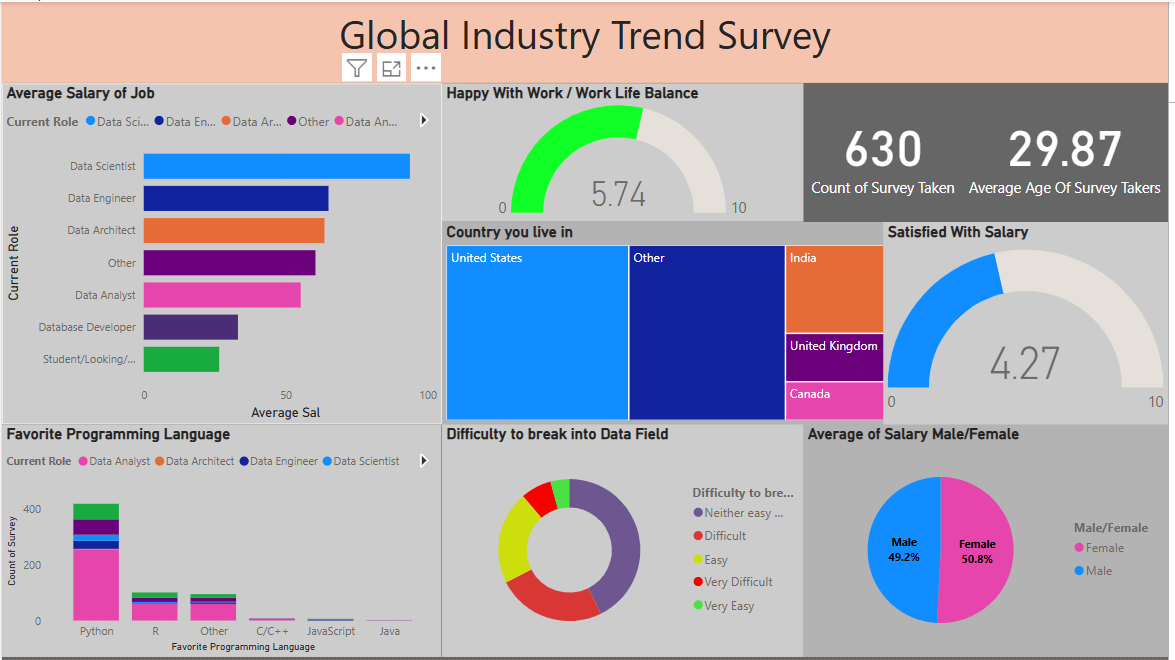

Layout of this report page (visuals, bound fields, positions):
{"tool":"powerbi","page":{"name":"Page 1","canvas":[1280,720],"ordinal":0},"visuals":[{"type":"textbox","box":[0,0,1280.3,89.2],"z":0},{"type":"card","fields":{"Values":["CountNonNull(Data Professional Survey.Unique ID)"]},"box":[879.2,89.7,175.3,151.4],"z":1000},{"type":"card","fields":{"Values":["Avg(Data Professional Survey.Q10 - Current Age)"]},"box":[1054.5,89.7,225.8,151.4],"z":2000},{"type":"barChart","title":"Average Salary of Job","fields":{"Category":["Data Professional Survey.Q1 - Which Title Best Fits your Current Role?.1"],"Y":["Avg(Data Professional Survey.Avg Sal)"],"Series":["Data Professional Survey.Q1 - Which Title Best Fits your Current Role?.1"]},"box":[0,89.7,482.4,374.4],"z":3000},{"type":"columnChart","title":"Favorite Programming Language","fields":{"Category":["Data Professional Survey.Q5 - Favorite Programming Language.1"],"Y":["CountNonNull(Data Professional Survey.Unique ID)"],"Series":["Data Professional Survey.Q1 - Which Title Best Fits your Current Role?.1"]},"box":[0,464.2,482.4,255.2],"z":4000},{"type":"treemap","title":"Country you live in","fields":{"Group":["Data Professional Survey.Q11 - Which Country do you live in?.1"],"Values":["CountNonNull(Data Professional Survey.Q11 - Which Country do you live in?.1)"]},"box":[482.4,241.2,493.6,223],"z":5000},{"type":"gauge","title":"     Happy With Work / Work Life Balance","fields":{"Y":["Avg(Data Professional Survey.Q6 - How Happy are you in your Current Position with the following? (Work/Life Balance))"],"MaxValue":["Max(Data Professional Survey.Q6 - How Happy are you in your Current Position with the following? (Work/Life Balance))"],"MinValue":["Min(Data Professional Survey.Q6 - How Happy are you in your Current Position with the following? (Work/Life Balance))1"]},"box":[574.9,89.7,304.3,151.4],"z":6000},{"type":"gauge","title":"Satisfied With Salary","fields":{"Y":["Avg(Data Professional Survey.Q6 - How Happy are you in your Current Position with the following? (Salary))"],"MinValue":["Min(Data Professional Survey.Q6 - How Happy are you in your Current Position with the following? (Salary))"],"MaxValue":["Max(Data Professional Survey.Q6 - How Happy are you in your Current Position with the following? (Salary))"]},"box":[967.6,241.2,312.7,223],"z":7000},{"type":"pieChart","title":"Average of Salary Male/Female","fields":{"Category":["Data Professional Survey.Q9 - Male/Female?"],"Y":["Avg(Data Professional Survey.Avg Sal)"]},"box":[879.2,464.2,401.1,255.2],"z":8000},{"type":"donutChart","title":"Difficulty to break into Data Field","fields":{"Category":["Data Professional Survey.Q7 - How difficult was it for you to break into Data?"],"Y":["CountNonNull(Data Professional Survey.Q7 - How difficult was it for you to break into Data?)"]},"box":[482.4,464.2,396.8,255.2],"z":9000}]}

Visuals, with their boxes in screenshot pixels (x1, y1, x2, y2), scaled from the page's 1280x720 canvas onto the 1175x660 screenshot:
textbox: (left=0, top=0, right=1174, bottom=82)
card - CountNonNull(Data Professional Survey.Unique ID): (left=807, top=82, right=968, bottom=221)
card - Avg(Data Professional Survey.Q10 - Current Age): (left=968, top=82, right=1174, bottom=221)
"Average Salary of Job" barChart: (left=0, top=82, right=443, bottom=425)
"Favorite Programming Language" columnChart: (left=0, top=426, right=443, bottom=659)
"Country you live in" treemap: (left=443, top=221, right=896, bottom=426)
"     Happy With Work / Work Life Balance" gauge: (left=528, top=82, right=807, bottom=221)
"Satisfied With Salary" gauge: (left=888, top=221, right=1174, bottom=426)
"Average of Salary Male/Female" pieChart: (left=807, top=426, right=1174, bottom=659)
"Difficulty to break into Data Field" donutChart: (left=443, top=426, right=807, bottom=659)
